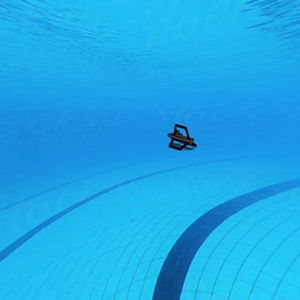submarine: (164, 119, 201, 157)
